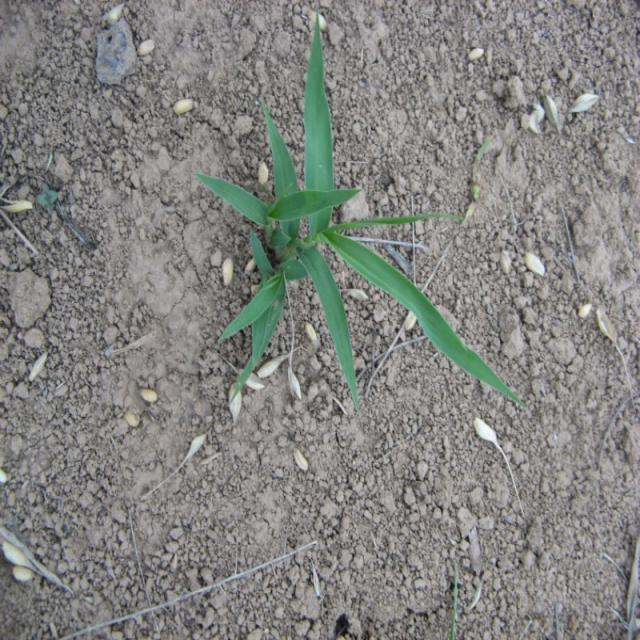bg: (196, 16, 530, 401)
